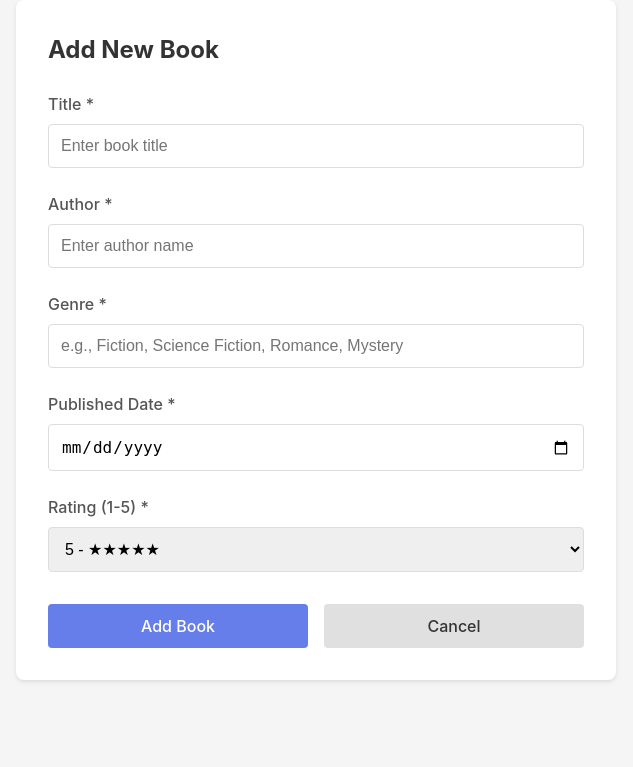
Scenario: BookForm › Create Mode › validates required fields
Click the button "Add Book": (178, 626) [48, 604, 308, 648]
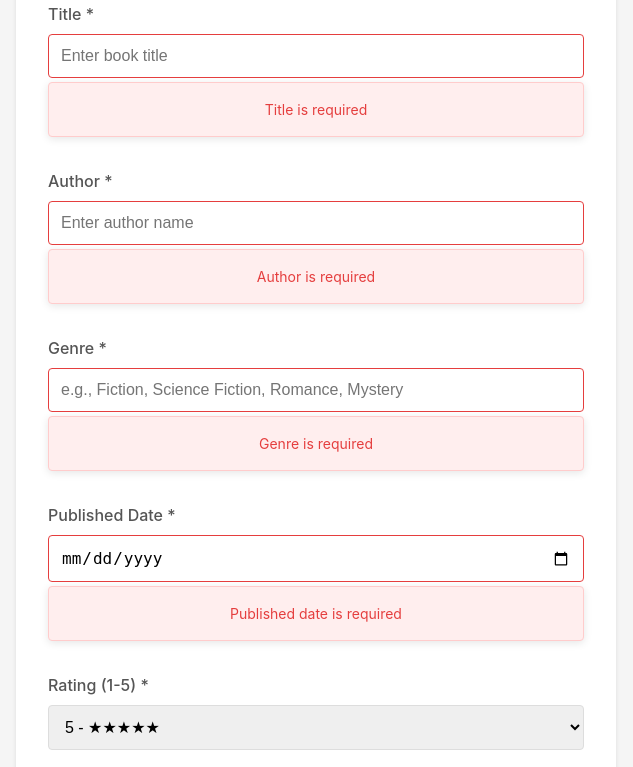
Expected: the text "Title is required" is shown, [48, 82, 584, 137]
Expected: the text "Author is required" is shown, [48, 249, 584, 304]
Expected: the text "Genre is required" is shown, [48, 416, 584, 471]
